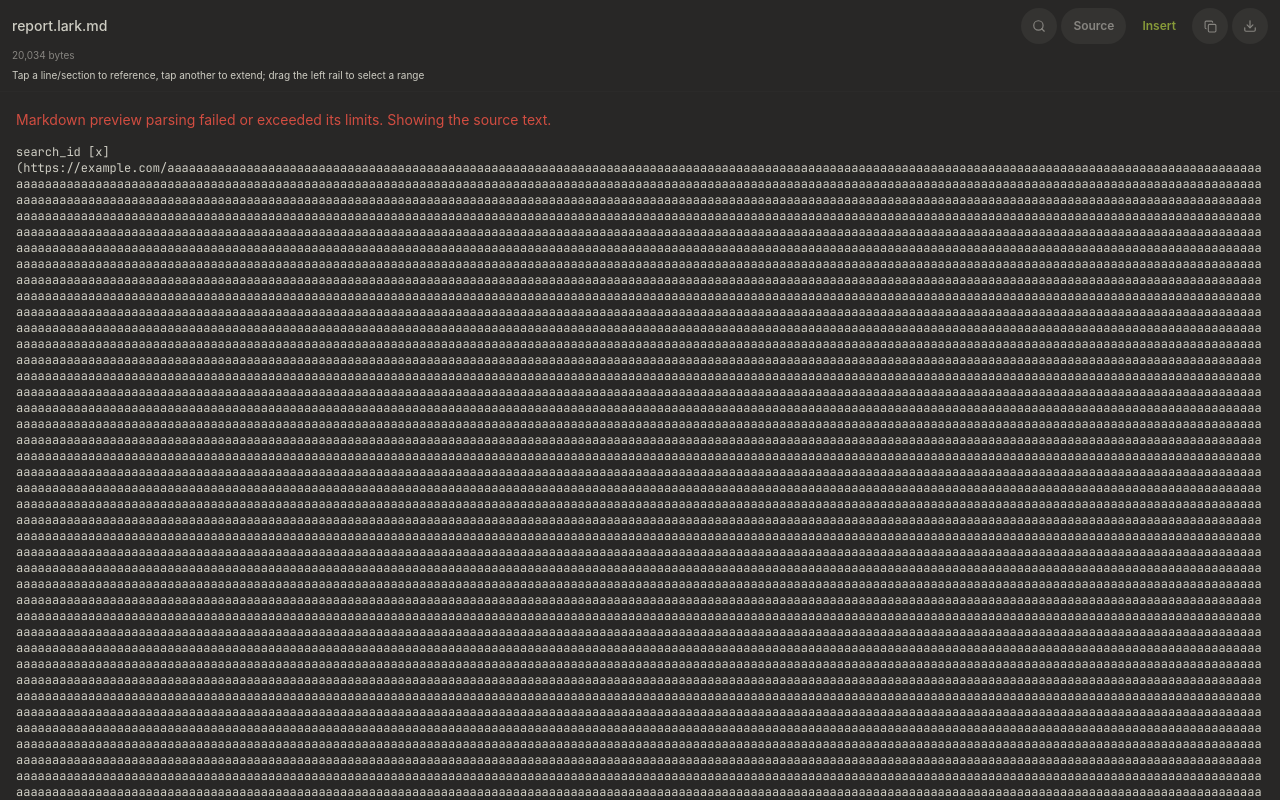
Test: Markdown preview failure recovery › shows a parse error and literal source, ends loading, and keeps source controls usable
The width and height of the screenshot is (1280, 800).
Expected: the message is shown, [16,111,551,128]
Click the button "Source": (1094, 26) [1061,8,1126,44]
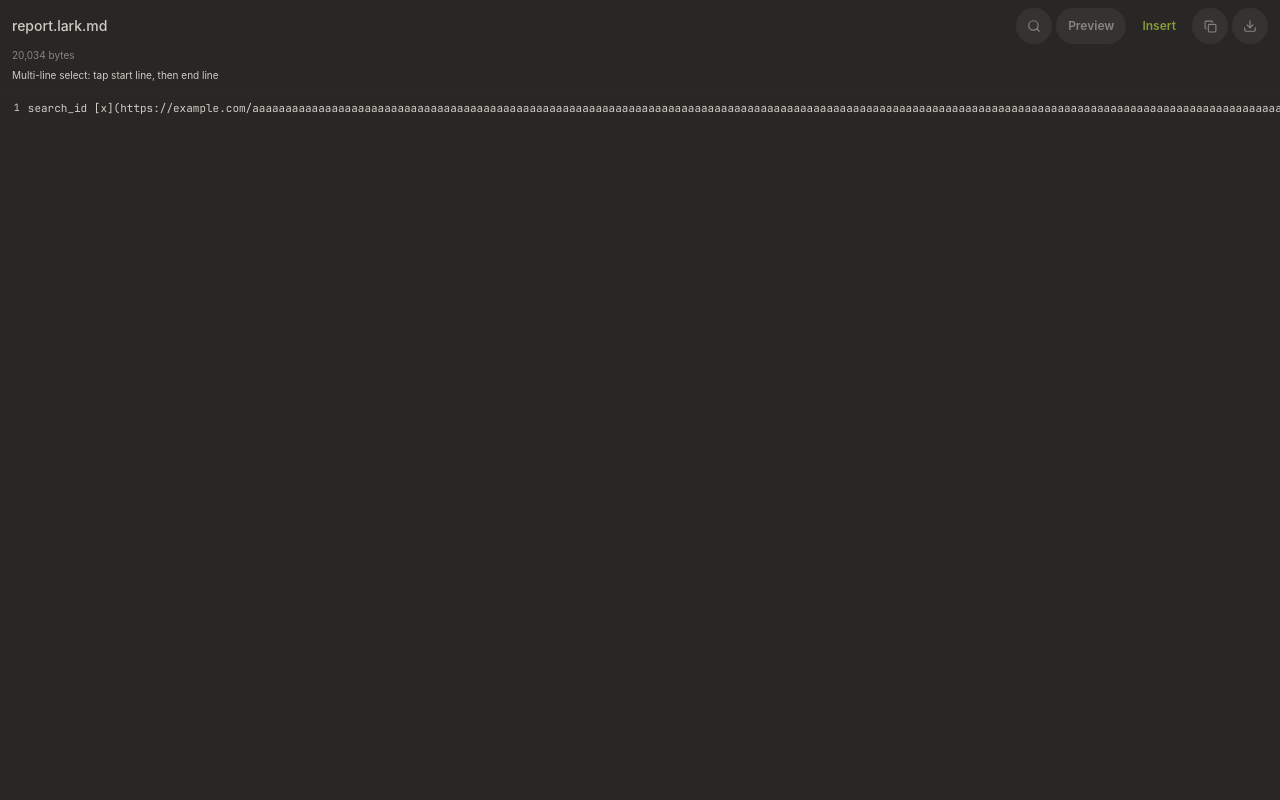
Expected: the message is gone
